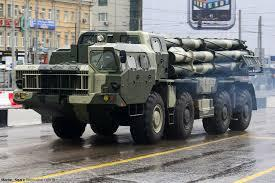MIL_SAM_TEL: (13, 27, 258, 139)
